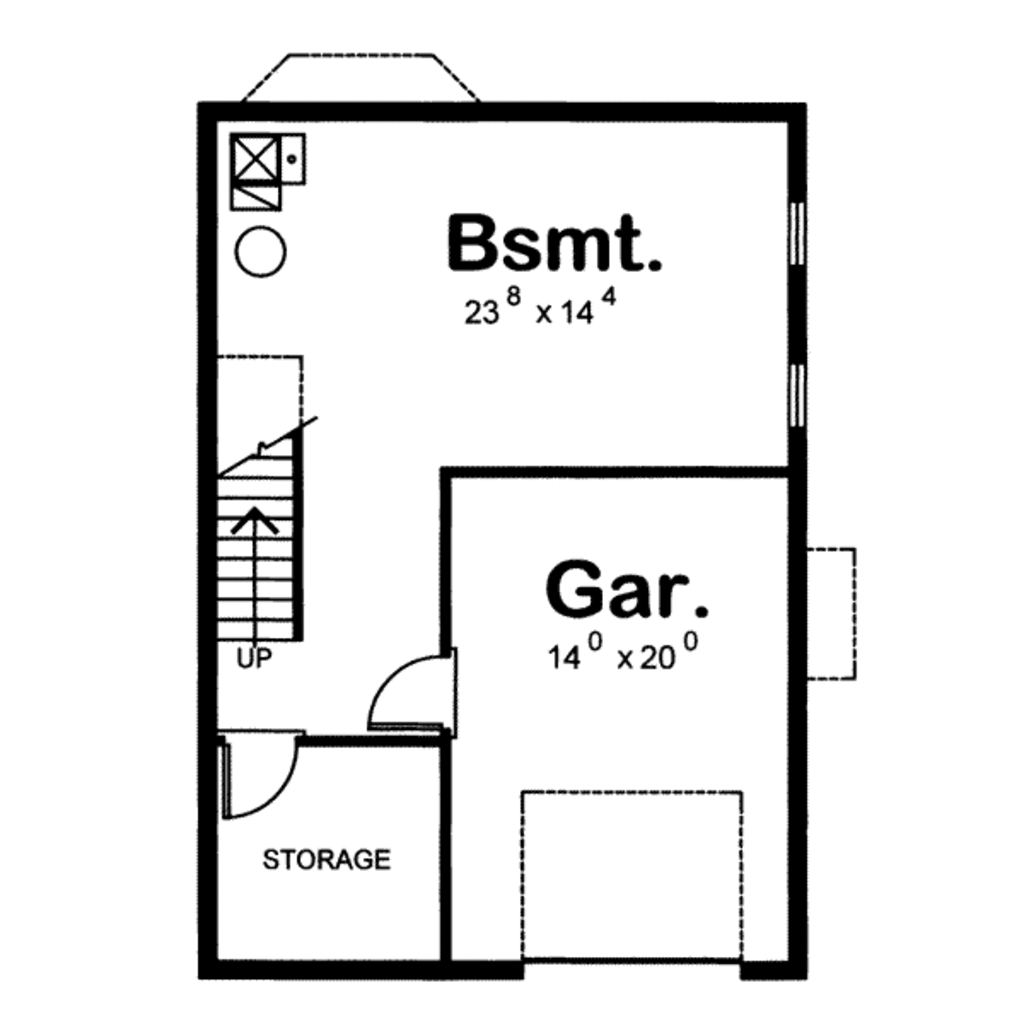door: (338, 649, 469, 733), (217, 724, 302, 821)
stairs: (214, 349, 314, 655)
window: (783, 196, 811, 267), (783, 358, 813, 424)
